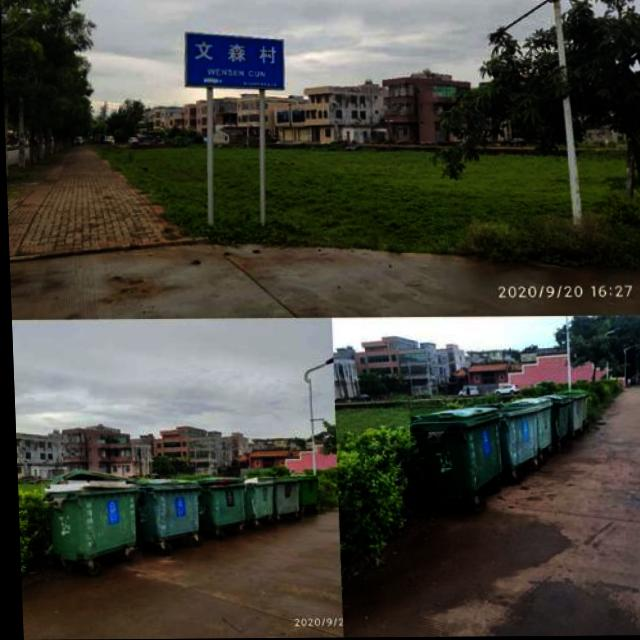garbage_bin: (406, 407, 497, 497), (130, 478, 198, 538), (194, 475, 242, 529), (497, 403, 534, 469), (519, 399, 549, 449), (241, 476, 272, 520), (269, 474, 295, 514), (549, 394, 569, 440), (566, 390, 586, 432), (294, 476, 315, 508)
overflow: (37, 468, 138, 560)
